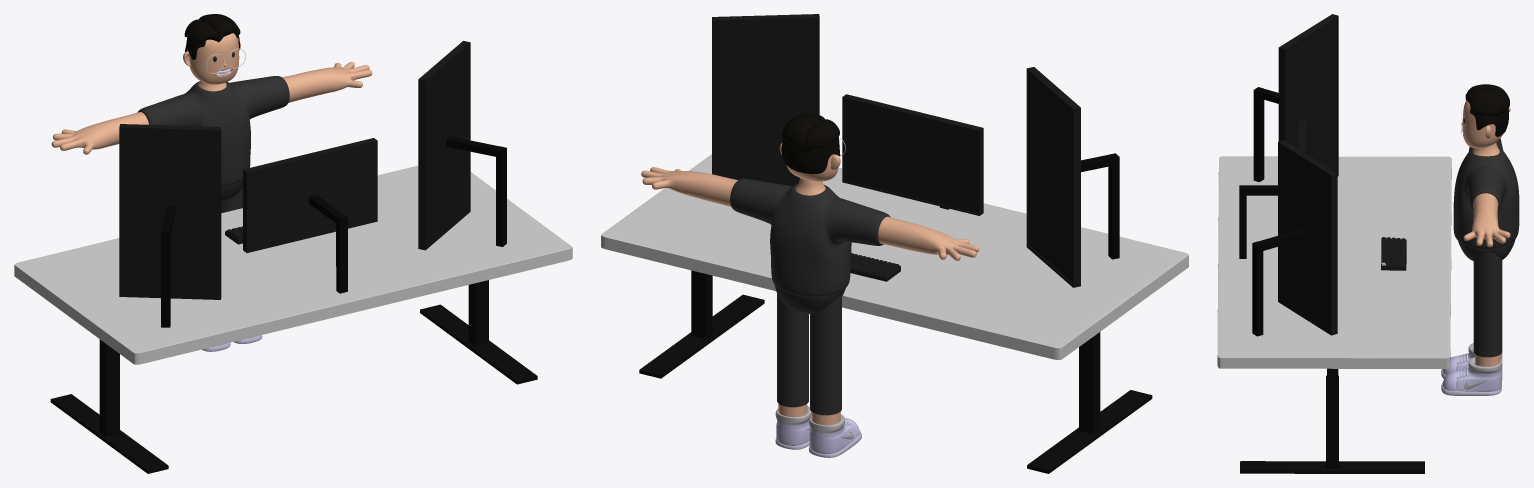
File: zachuri-person.glb
The picture shows the model from 3 angles, left to right: view 1: azimuth 30°, elevation 25°; view 2: azimuth 150°, elevation 25°; view 3: azimuth 270°, elevation 25°; orthographic projection. The views are drawn at different scales.
Parts seen in each view (by area): view 1: Cube, Cube.005, Cube.004, Tshirt.001, Cube.002, Body.001, Cube.003, Cube.009, Head.001, Hair Top.001, Cube.007, Cube.008; view 2: Cube, Cube.005, Tshirt.001, Screen Monitor Middle, Legs.001, Body.001, Cube.002, Cube.003, Right Shoe.001, Cube.004, Hair Top.001, Hair Inner.001 (+3 smaller); view 3: Cube, Cube.005, Tshirt.001, Legs.001, Cube.002, Cube.009, Right Shoe.001, Body.001, Cube.003, Hair Top.001, Head.001, MechKeyboard_01.001 (+5 smaller).
Boxes of the visible parts, x1,y1,x2,y2 form: Cube: [14, 165, 572, 364]; Cube.005: [119, 41, 470, 299]; Cube.004: [243, 138, 377, 252]; Tshirt.001: [137, 76, 289, 186]; Cube.002: [50, 304, 537, 473]; Body.001: [51, 62, 372, 154]; Cube.003: [99, 280, 488, 436]; Cube.009: [161, 146, 506, 327]; Head.001: [187, 33, 239, 84]; Hair Top.001: [184, 14, 240, 43]; Cube.007: [336, 215, 347, 293]; Cube.008: [161, 136, 499, 235]; Cube: [601, 154, 1188, 359]; Cube.005: [712, 14, 1080, 287]; Tshirt.001: [730, 178, 890, 296]; Screen Monitor Middle: [845, 100, 976, 212]; Legs.001: [777, 294, 841, 425]; Body.001: [641, 167, 979, 260]; Cube.002: [639, 294, 1152, 473]; Cube.003: [691, 270, 1100, 434]; Right Shoe.001: [775, 406, 861, 457]; Cube.004: [842, 94, 983, 215]; Hair Top.001: [782, 113, 839, 152]; Hair Inner.001: [781, 137, 840, 173]; Cube: [1217, 156, 1451, 368]; Cube.005: [1278, 14, 1338, 335]; Tshirt.001: [1453, 138, 1519, 248]; Legs.001: [1473, 252, 1502, 366]; Cube.002: [1240, 461, 1424, 473]; Cube.009: [1252, 87, 1264, 336]; Right Shoe.001: [1441, 343, 1502, 395]; Body.001: [1463, 107, 1510, 247]; Cube.003: [1326, 368, 1338, 468]; Hair Top.001: [1465, 84, 1509, 116]; Head.001: [1462, 100, 1502, 148]; MechKeyboard_01.001: [1381, 237, 1406, 270].
Bounding box in the file's own units: 3.08 × 2.11 × 1.95.
